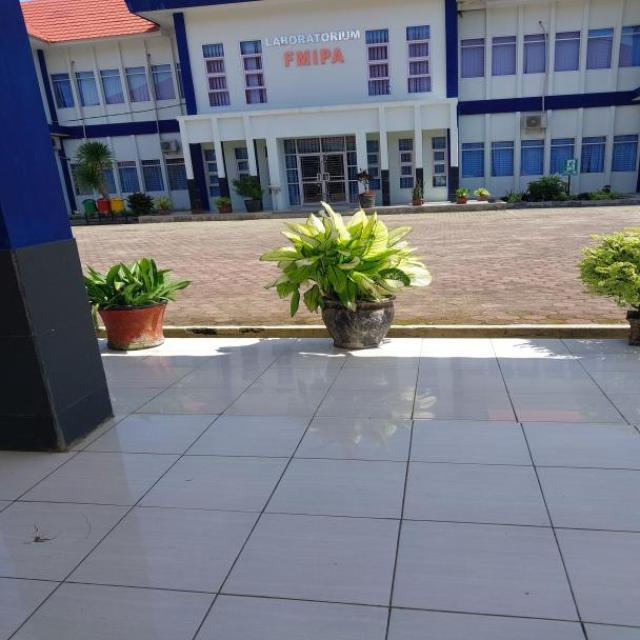plant ahead at: (266, 199, 440, 349), (83, 257, 194, 347)
